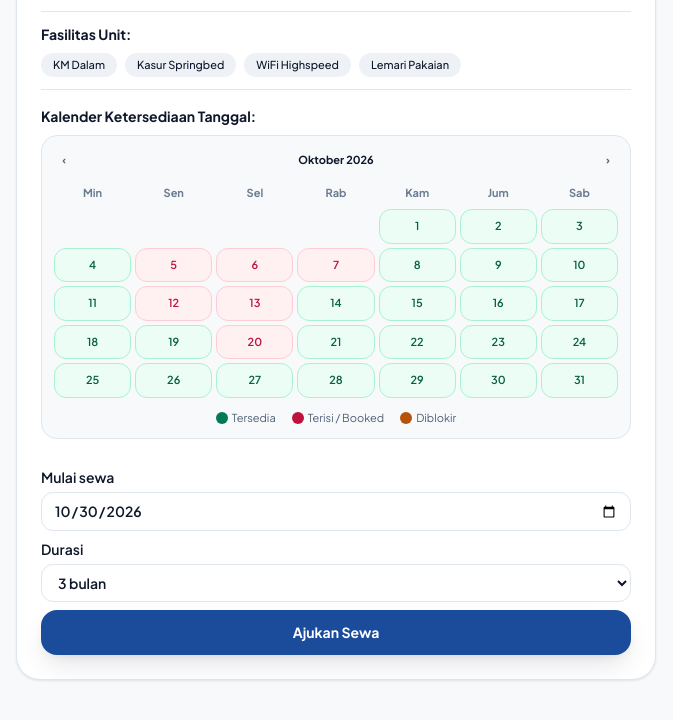
Test: UnitDetailPage › menolak tanggal mulai sebelum hari ini
The image size is (673, 720).
(page scrolled)
In the date field labelled "Mulai sewa": [336, 512] box [41, 492, 631, 531], type "2020-01-01"
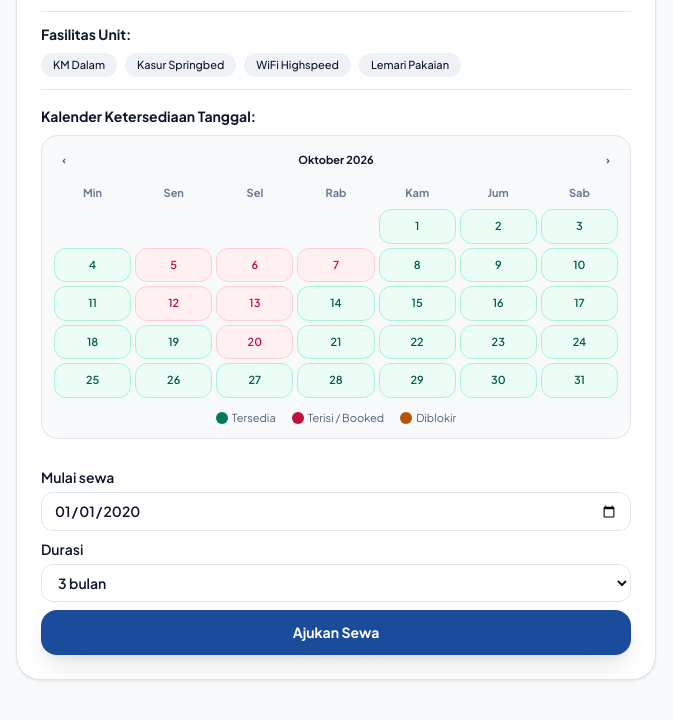
Click the button "Ajukan Sewa": [336, 632] box [41, 610, 631, 655]
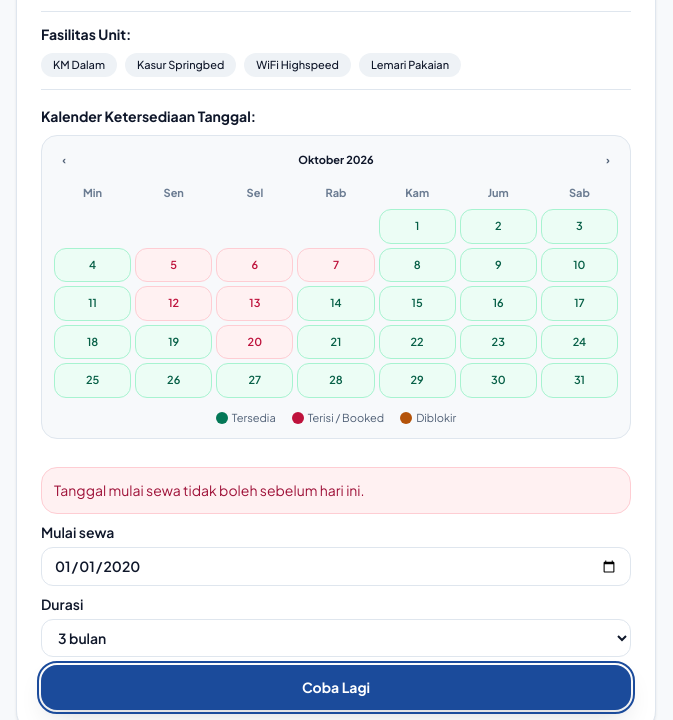
Expected: the message shows "tidak boleh sebelum hari ini", [54, 481, 365, 499]
